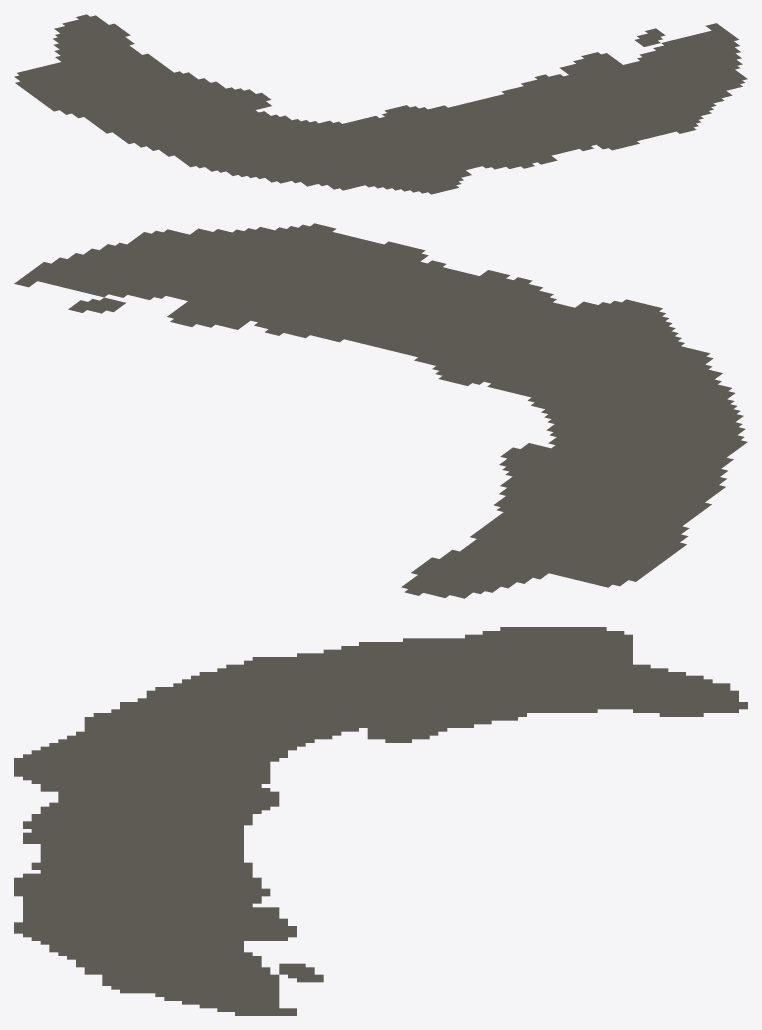
File: Isl-crescent1-NoBuildArea.fbx
The picture shows the model from 3 angles, top to bottom: view 1: azimuth 30°, elevation 25°; view 2: azimuth 150°, elevation 25°; view 3: azimuth 270°, elevation 25°; orthographic projection. The views are drawn at different scales.
Visible parts, largest first — view 1: Isl-crescent1-NoBuildArea; view 2: Isl-crescent1-NoBuildArea; view 3: Isl-crescent1-NoBuildArea.
Boxes of the visible parts, <box> form: Isl-crescent1-NoBuildArea: <box>14,14,747,194</box>; Isl-crescent1-NoBuildArea: <box>14,223,747,598</box>; Isl-crescent1-NoBuildArea: <box>14,627,747,1015</box>.
Size of the model in its own units: 104 by 0 by 83.
